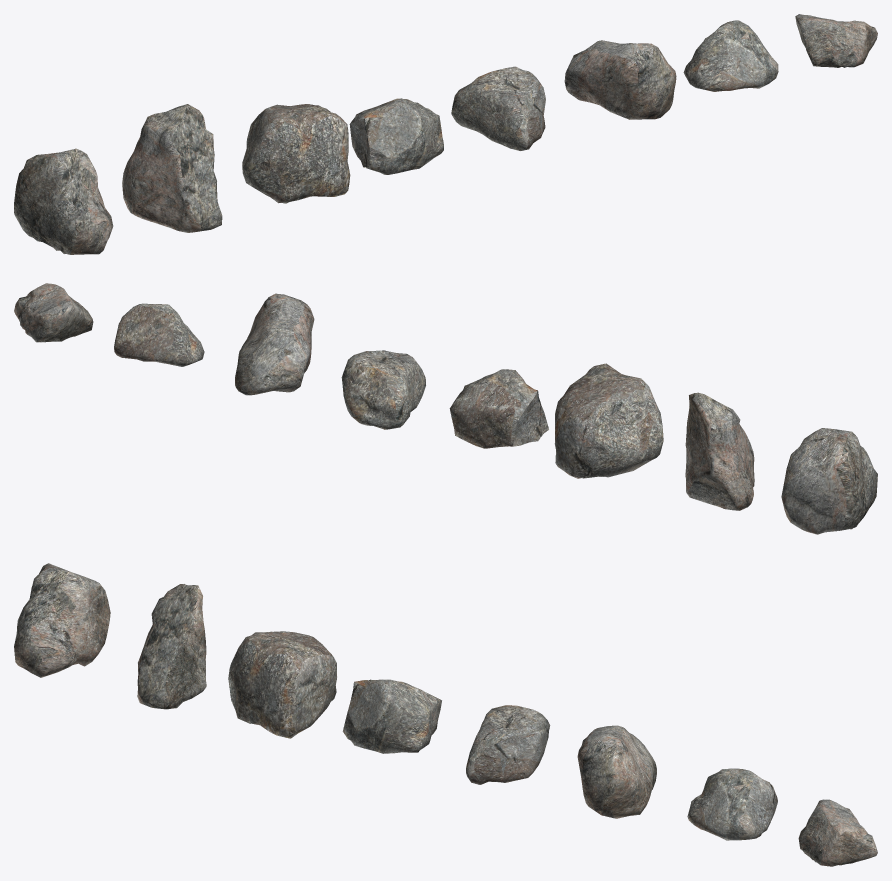
Rendered from Rocks.FBX.
The picture shows the model from 3 angles, top to bottom: view 1: azimuth 30°, elevation 25°; view 2: azimuth 150°, elevation 25°; view 3: azimuth 330°, elevation 25°; orthographic projection.
Parts seen in each view (by area): view 1: Rock_06, Rock_05, Rock_07, Rock_02, Rock_03, Rock_04, Rock_01, Rock_00; view 2: Rock_05, Rock_07, Rock_06, Rock_02, Rock_04, Rock_03, Rock_01, Rock_00; view 3: Rock_05, Rock_07, Rock_06, Rock_04, Rock_02, Rock_03, Rock_01, Rock_00.
Part boxes in pixels (bbox=[...]): Rock_06: bbox=[122, 104, 222, 232]; Rock_05: bbox=[242, 104, 350, 203]; Rock_07: bbox=[14, 148, 113, 254]; Rock_02: bbox=[564, 40, 676, 119]; Rock_03: bbox=[451, 66, 545, 150]; Rock_04: bbox=[349, 98, 443, 174]; Rock_01: bbox=[683, 20, 778, 91]; Rock_00: bbox=[795, 14, 877, 67]; Rock_05: bbox=[554, 363, 663, 478]; Rock_07: bbox=[781, 428, 877, 534]; Rock_06: bbox=[685, 392, 754, 510]; Rock_02: bbox=[235, 293, 314, 395]; Rock_04: bbox=[449, 369, 548, 448]; Rock_03: bbox=[341, 350, 425, 429]; Rock_01: bbox=[114, 303, 204, 366]; Rock_00: bbox=[14, 283, 93, 342]; Rock_05: bbox=[228, 631, 336, 738]; Rock_07: bbox=[14, 563, 110, 677]; Rock_06: bbox=[137, 584, 206, 709]; Rock_04: bbox=[342, 679, 441, 753]; Rock_02: bbox=[577, 725, 656, 818]; Rock_03: bbox=[466, 705, 550, 784]; Rock_01: bbox=[687, 768, 777, 840]; Rock_00: bbox=[798, 799, 877, 866].
Bounding box in the file's own units: 3827 × 443 × 469.
Materials: 2 (2 with a texture image).
